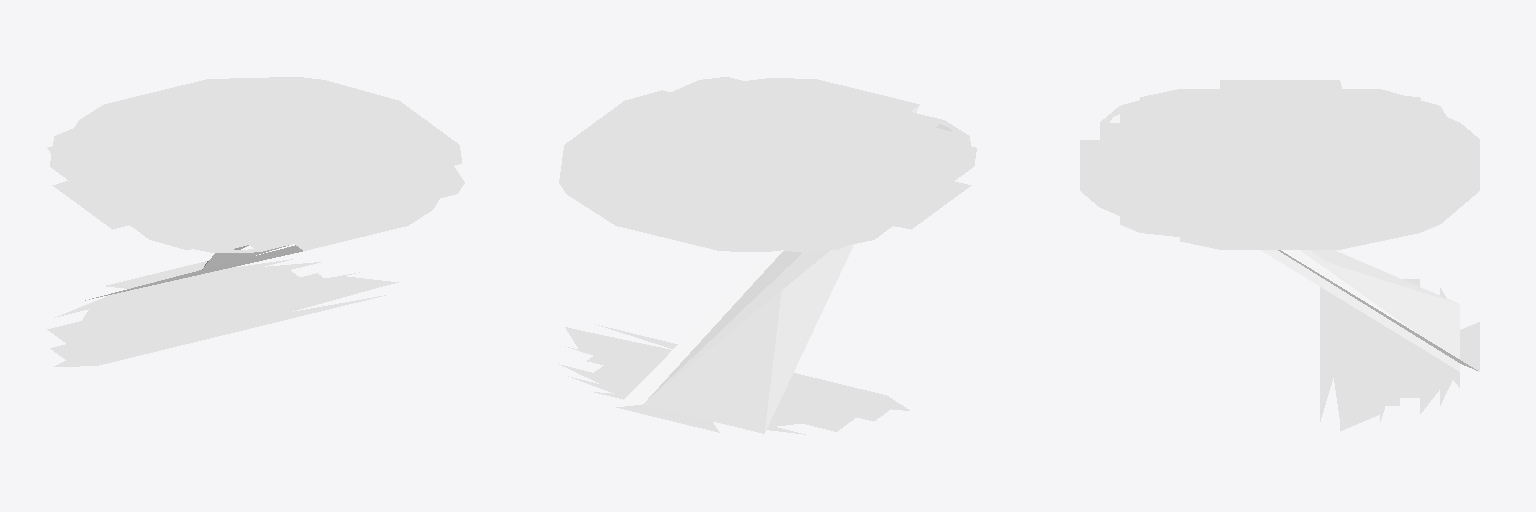
The model's file is lounge_chair.obj.
3 views of the same model, side by side, from view 1: azimuth 30°, elevation 25°; view 2: azimuth 150°, elevation 25°; view 3: azimuth 270°, elevation 25° (orthographic).
Bounding box in the file's own units: 20 × 10 × 20.